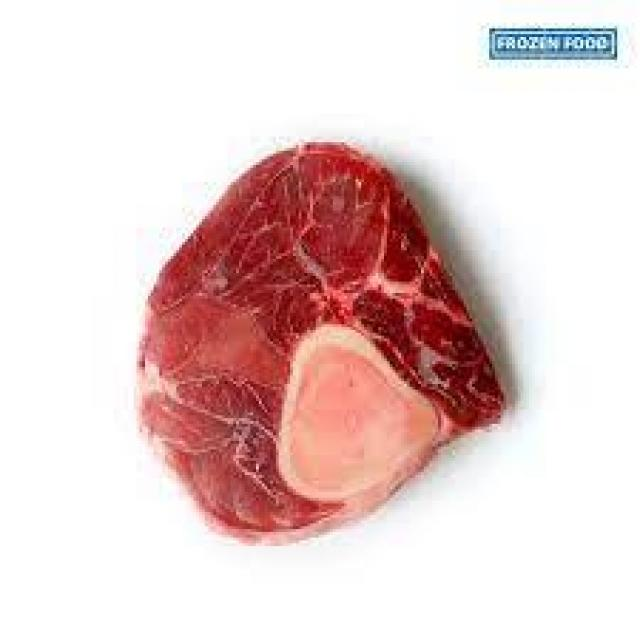beef: (136, 109, 512, 564)
